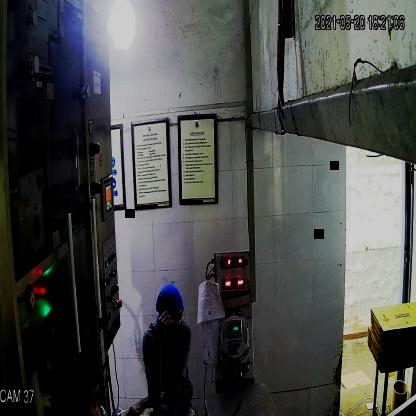goggles: (166, 310, 188, 328)
